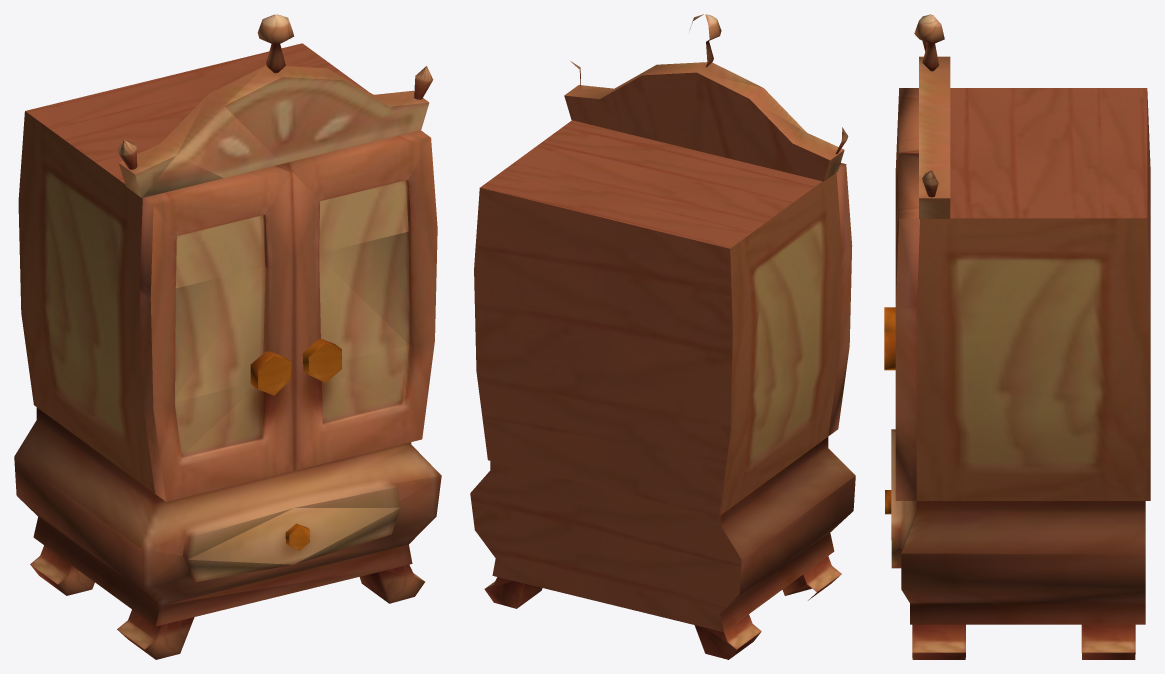
The model's file is closetGirl.glb.
The picture shows the model from 3 angles, left to right: view 1: azimuth 30°, elevation 25°; view 2: azimuth 150°, elevation 25°; view 3: azimuth 270°, elevation 25°; orthographic projection. The views are drawn at different scales.
Parts seen in each view (by area): view 1: draw, upcloset, closetdoor_L, closetdoor_R, top2, foot2, foot5, foot3, knob3, knob4, bigear; view 2: back, upcloset, draw, top2, closetdoor_L, foot5, foot4, foot2; view 3: upcloset, draw, closetdoor_R, top2, foot4, foot3, closetdoor_L, bigear, back, knob4.
Part boxes in pixels (x1,y1,x2,y2): draw: [14, 407, 441, 626]; upcloset: [18, 43, 367, 493]; closetdoor_L: [139, 164, 294, 501]; closetdoor_R: [282, 130, 437, 470]; top2: [119, 65, 429, 197]; foot2: [117, 609, 194, 659]; foot5: [30, 545, 94, 595]; foot3: [359, 564, 424, 603]; knob3: [250, 351, 291, 395]; knob4: [302, 338, 341, 382]; bigear: [257, 14, 294, 73]; back: [474, 188, 732, 516]; upcloset: [480, 120, 842, 516]; draw: [470, 437, 855, 632]; top2: [564, 62, 844, 181]; closetdoor_L: [828, 163, 852, 436]; foot5: [694, 614, 761, 659]; foot4: [484, 577, 542, 608]; foot2: [782, 556, 841, 600]; upcloset: [916, 88, 1150, 500]; draw: [891, 429, 1145, 624]; closetdoor_R: [895, 153, 919, 500]; top2: [919, 56, 950, 218]; foot4: [1081, 624, 1135, 659]; foot3: [912, 624, 965, 659]; closetdoor_L: [895, 88, 918, 235]; bigear: [914, 14, 944, 71]; back: [1147, 91, 1150, 300]; knob4: [884, 331, 895, 370].
Size of the model in its own units: 3.66 by 6.78 by 2.8.
Materials: 10 (10 with a texture image).
